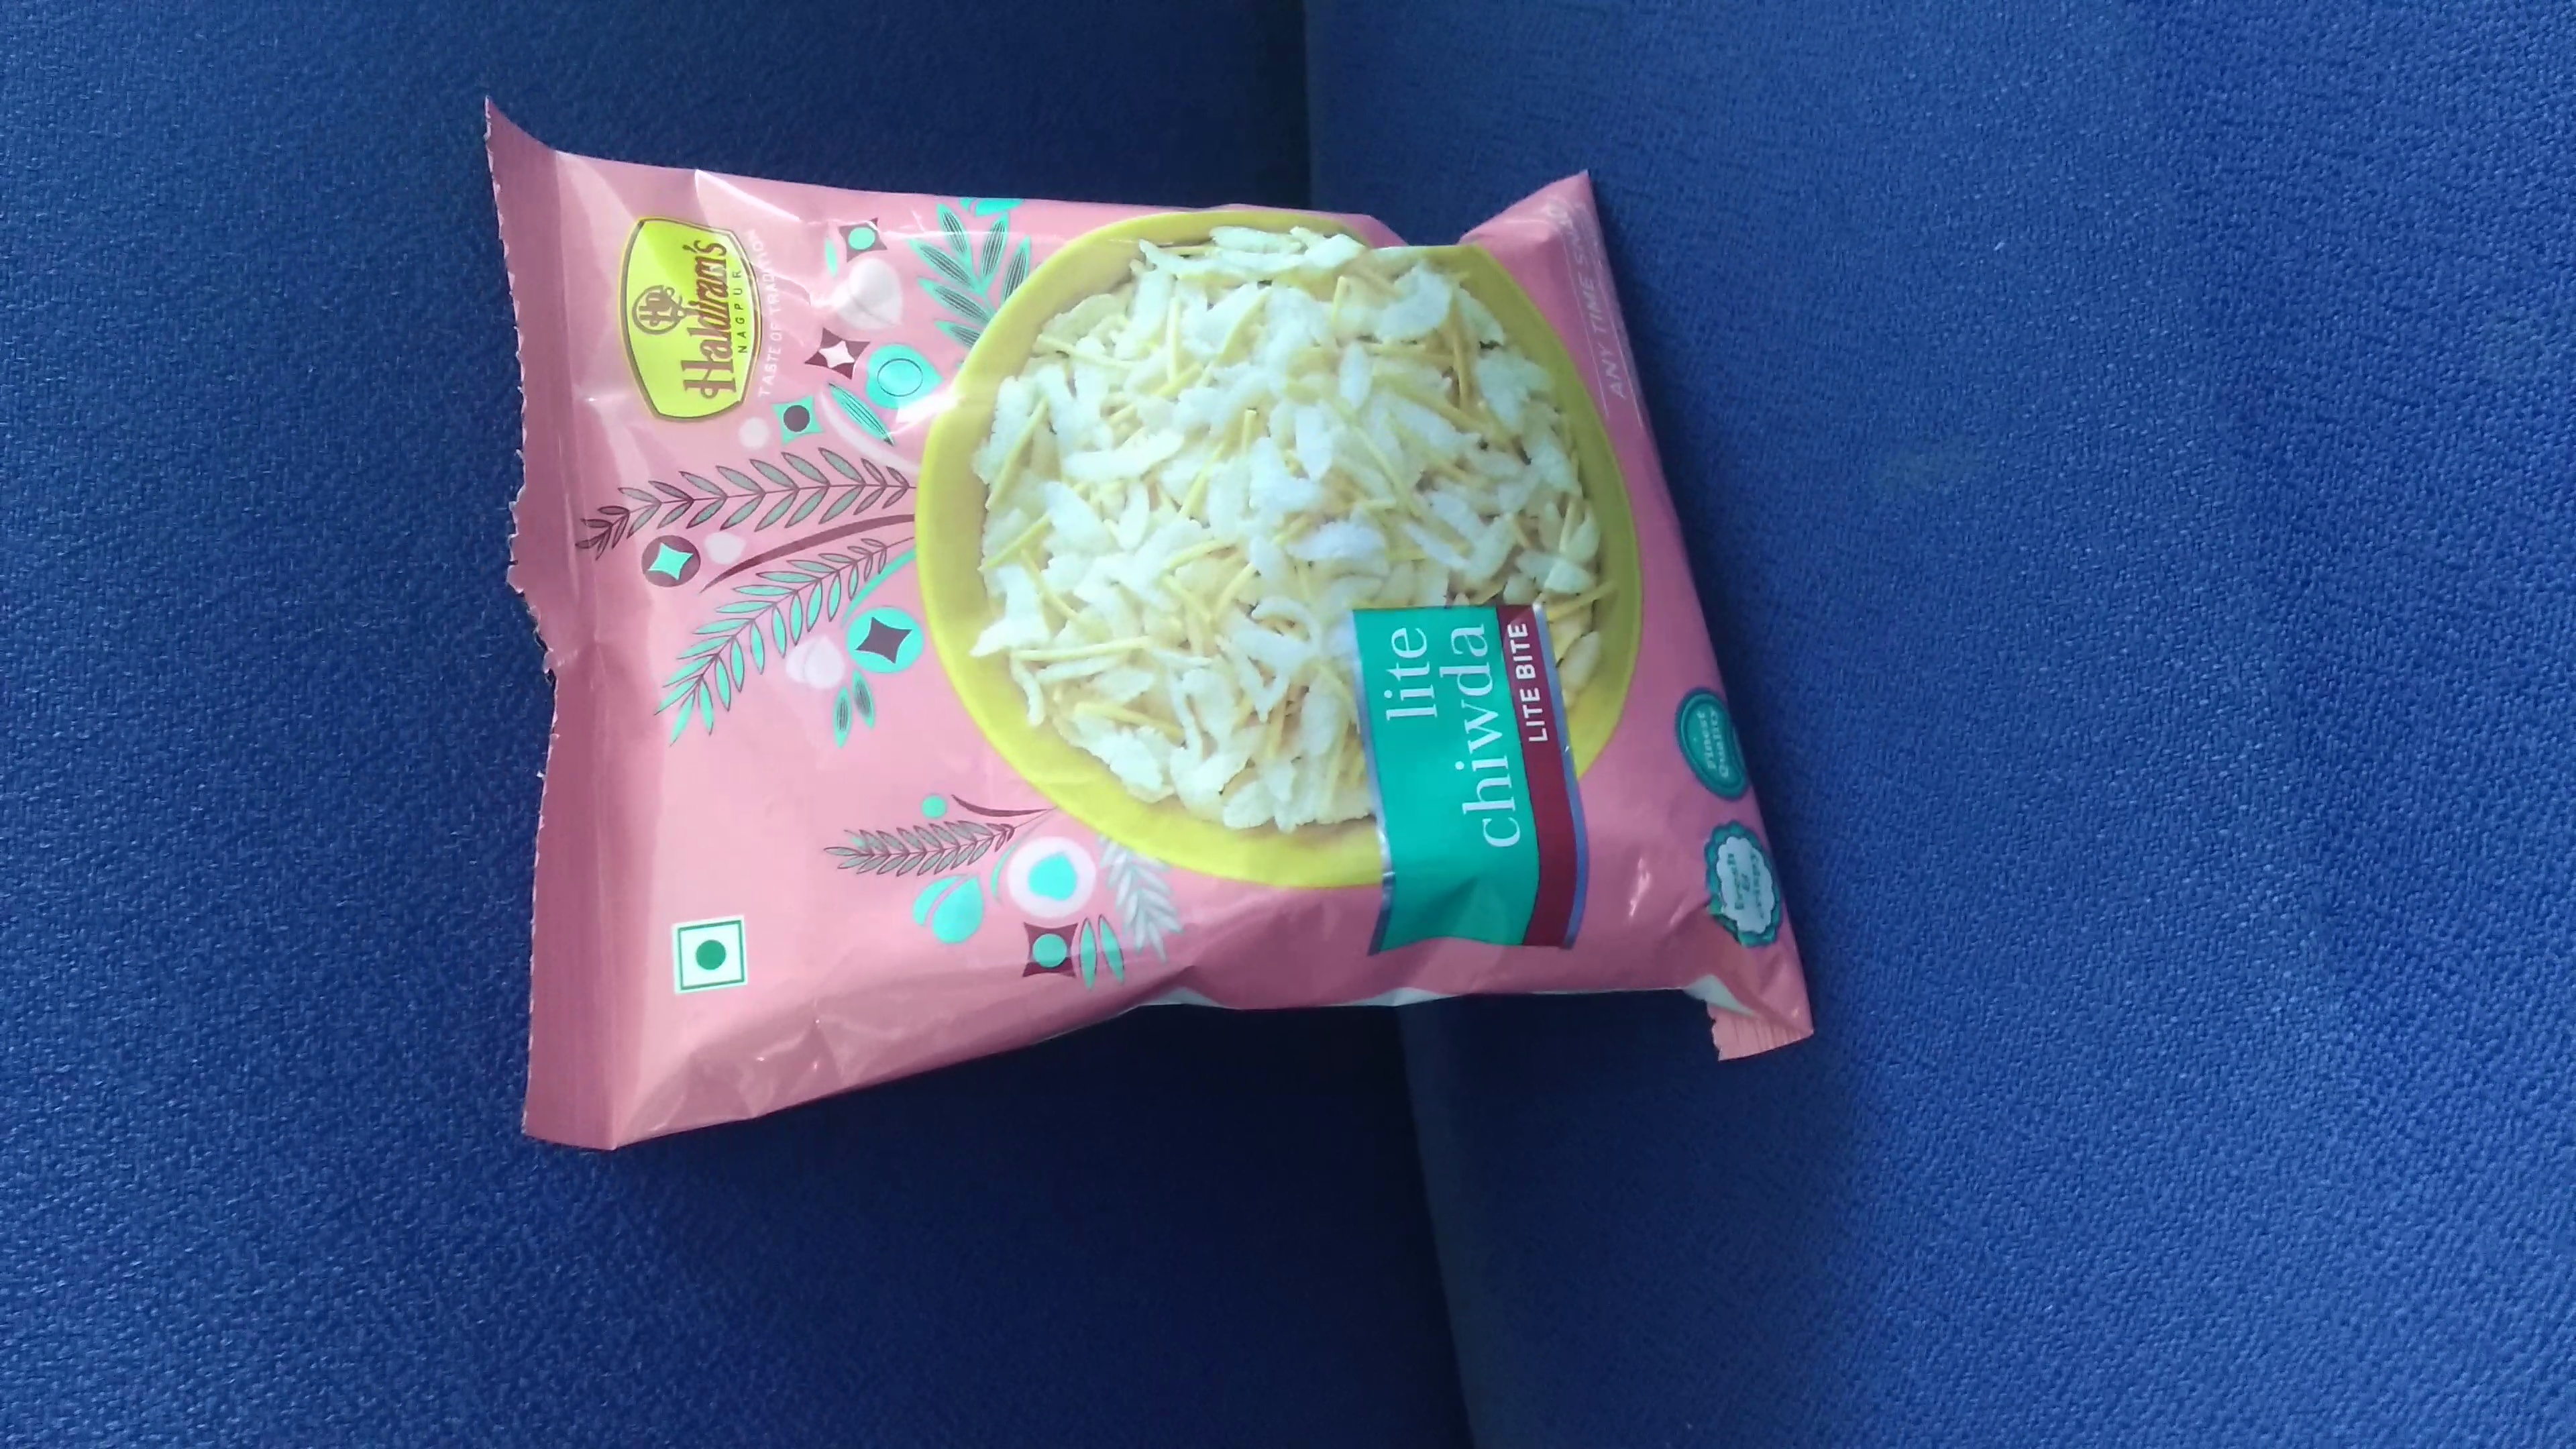liteChiwda: (469, 83, 1815, 1154)
